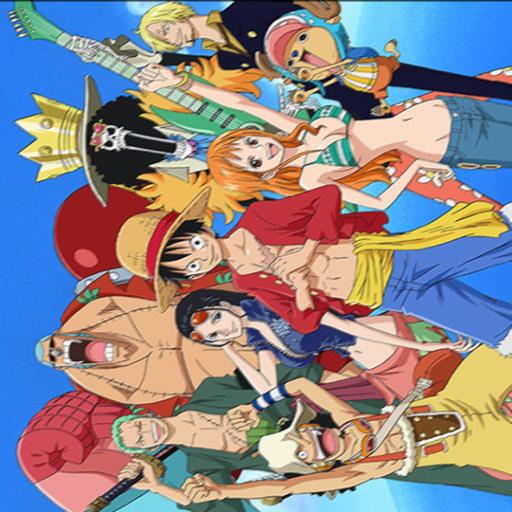Luffy: (121, 190, 512, 316)
Nami: (198, 82, 512, 188)
Zoro: (98, 366, 258, 509)
sanji: (127, 0, 269, 84)
